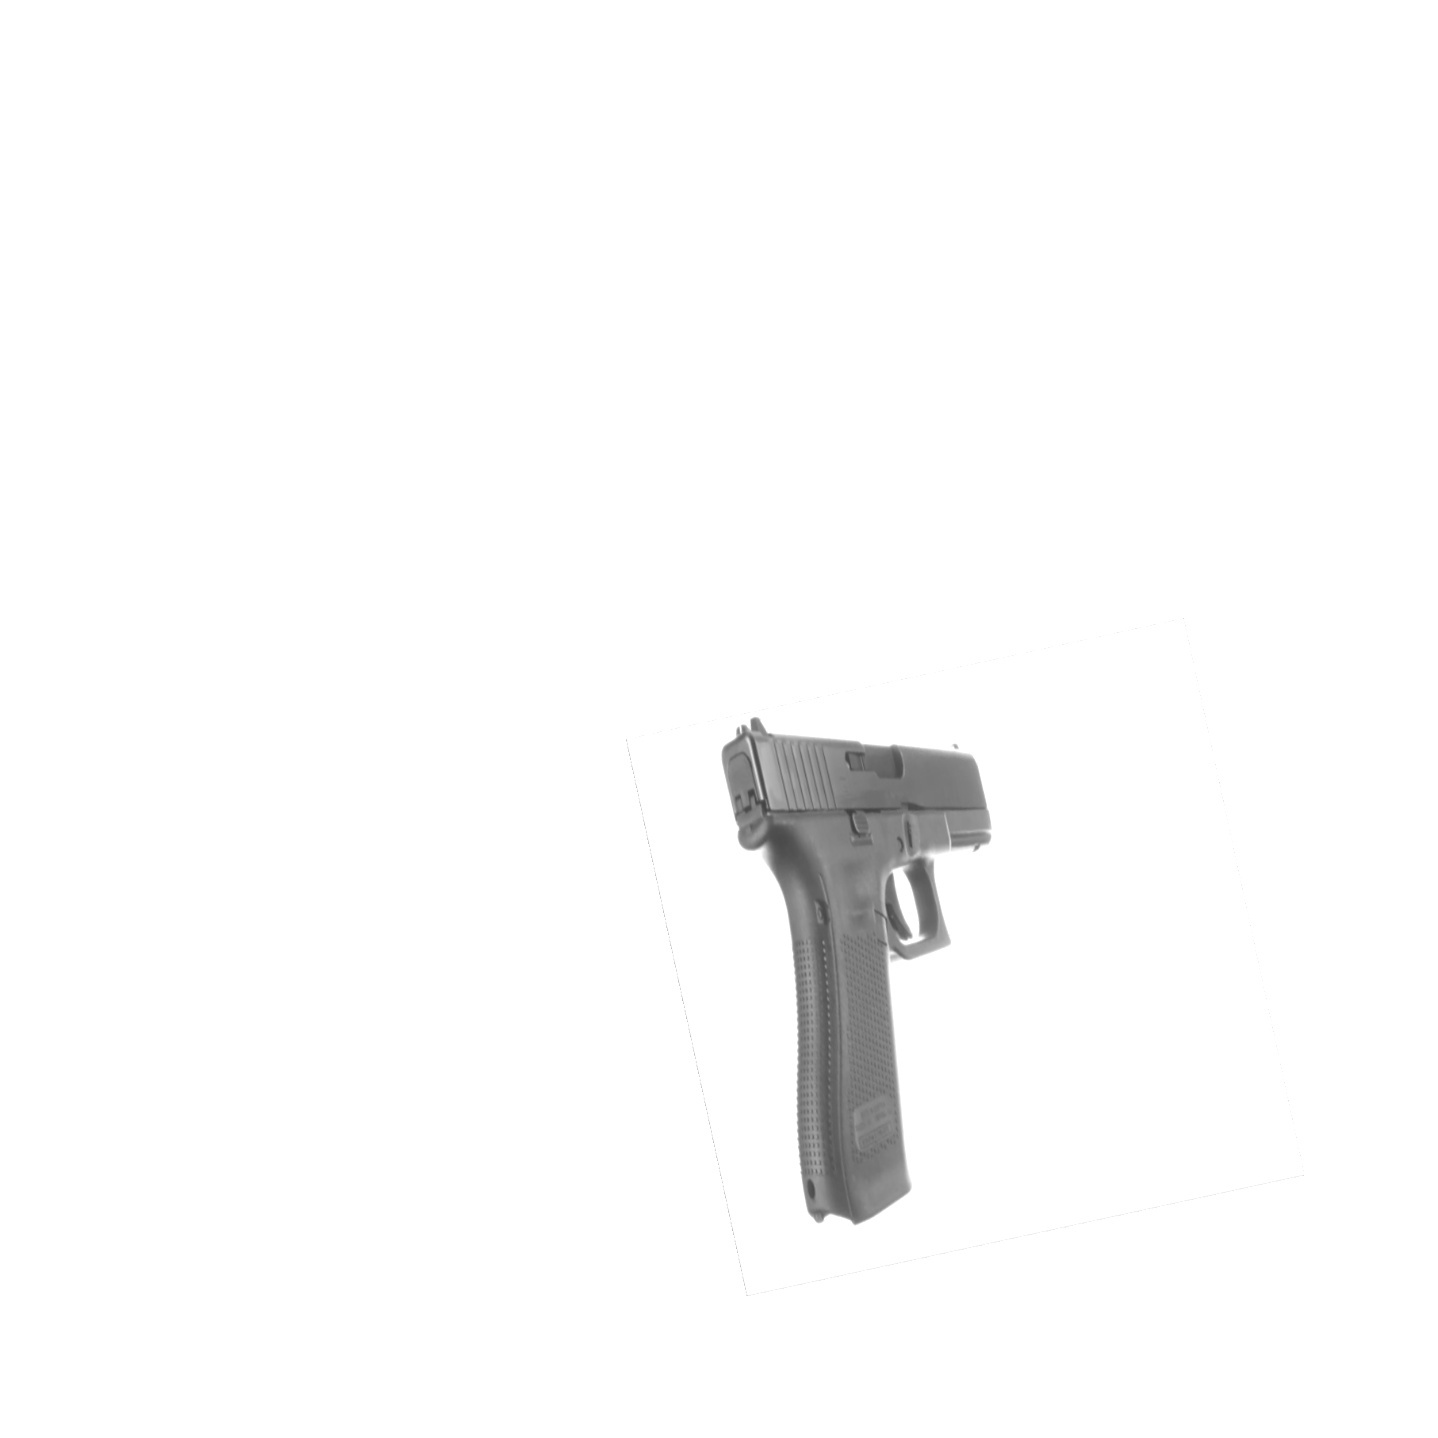gun: (722, 716, 992, 1219)
